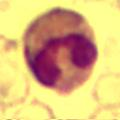eosi: (23, 4, 96, 93)
